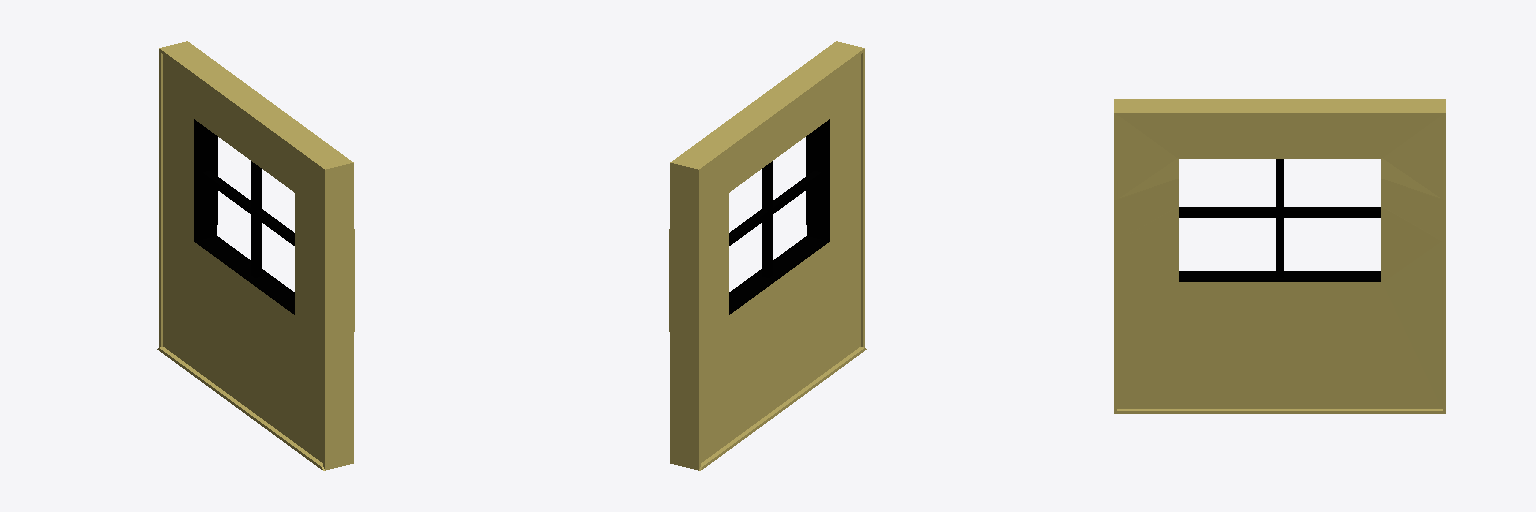
Rendered from simpleWindow.obj.
The picture shows the model from 3 angles: view 1: azimuth 30°, elevation 25°; view 2: azimuth 150°, elevation 25°; view 3: azimuth 270°, elevation 25°; orthographic projection.
Parts seen in each view (by area): view 1: Window1_Cube.003; view 2: Window1_Cube.003; view 3: Window1_Cube.003.
Part boxes in pixels (x1,y1,x2,y2): Window1_Cube.003: (157, 41, 354, 470); Window1_Cube.003: (669, 41, 866, 470); Window1_Cube.003: (1114, 99, 1445, 413).
Size of the model in its own units: 0.1091 by 1 by 1.